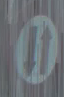Two way: (8, 2, 58, 86)
